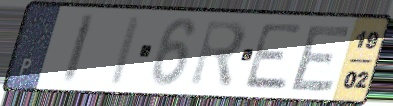6: (145, 15, 201, 91)
E: (287, 23, 355, 93), (241, 21, 307, 92)
I: (105, 14, 146, 89), (59, 11, 98, 86)
R: (186, 17, 249, 91)
